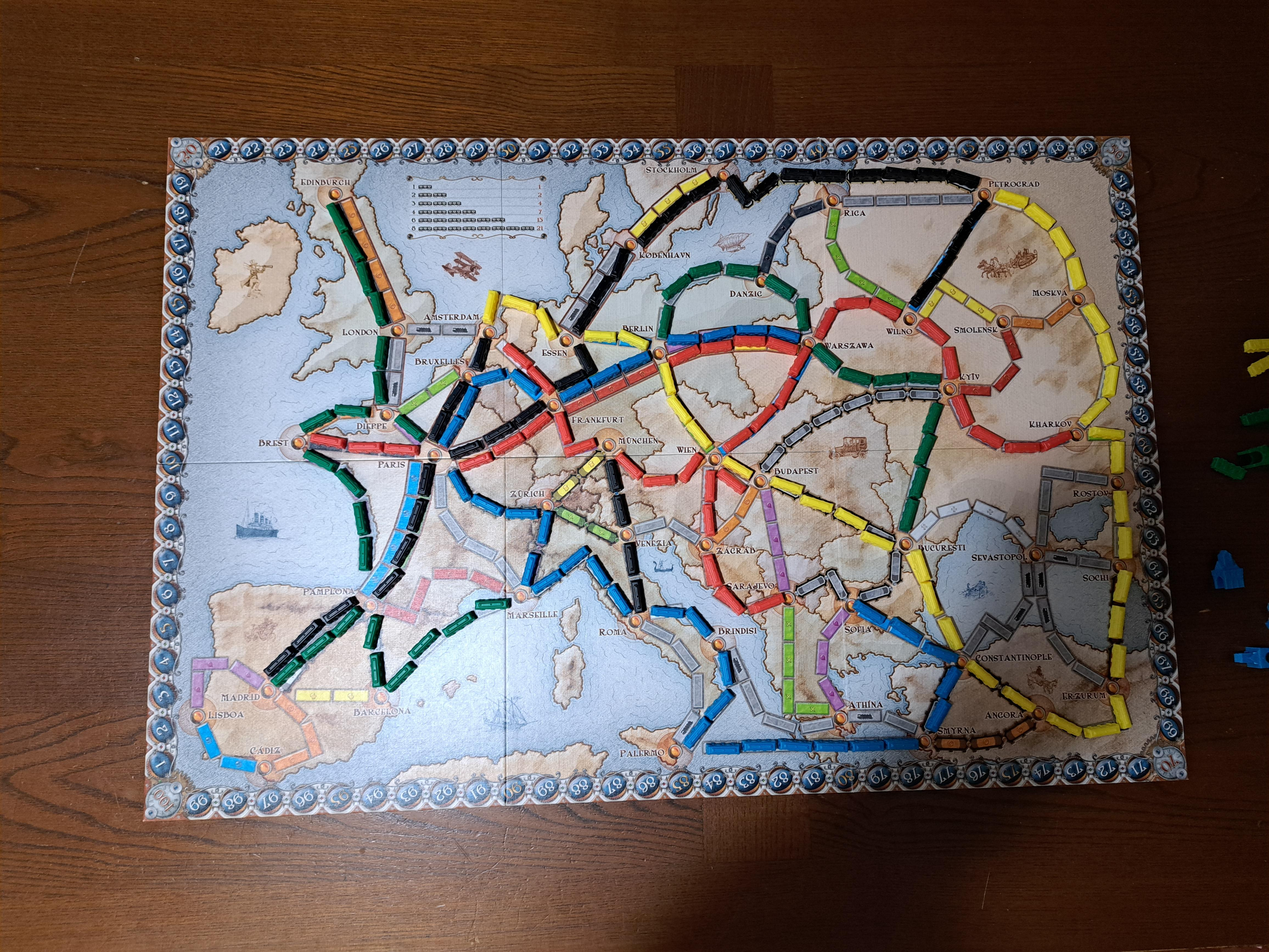corner_bl: (144, 781, 185, 821)
corner_br: (1153, 743, 1189, 780)
corner_tl: (169, 138, 205, 170)
corner_tr: (1100, 136, 1131, 168)
